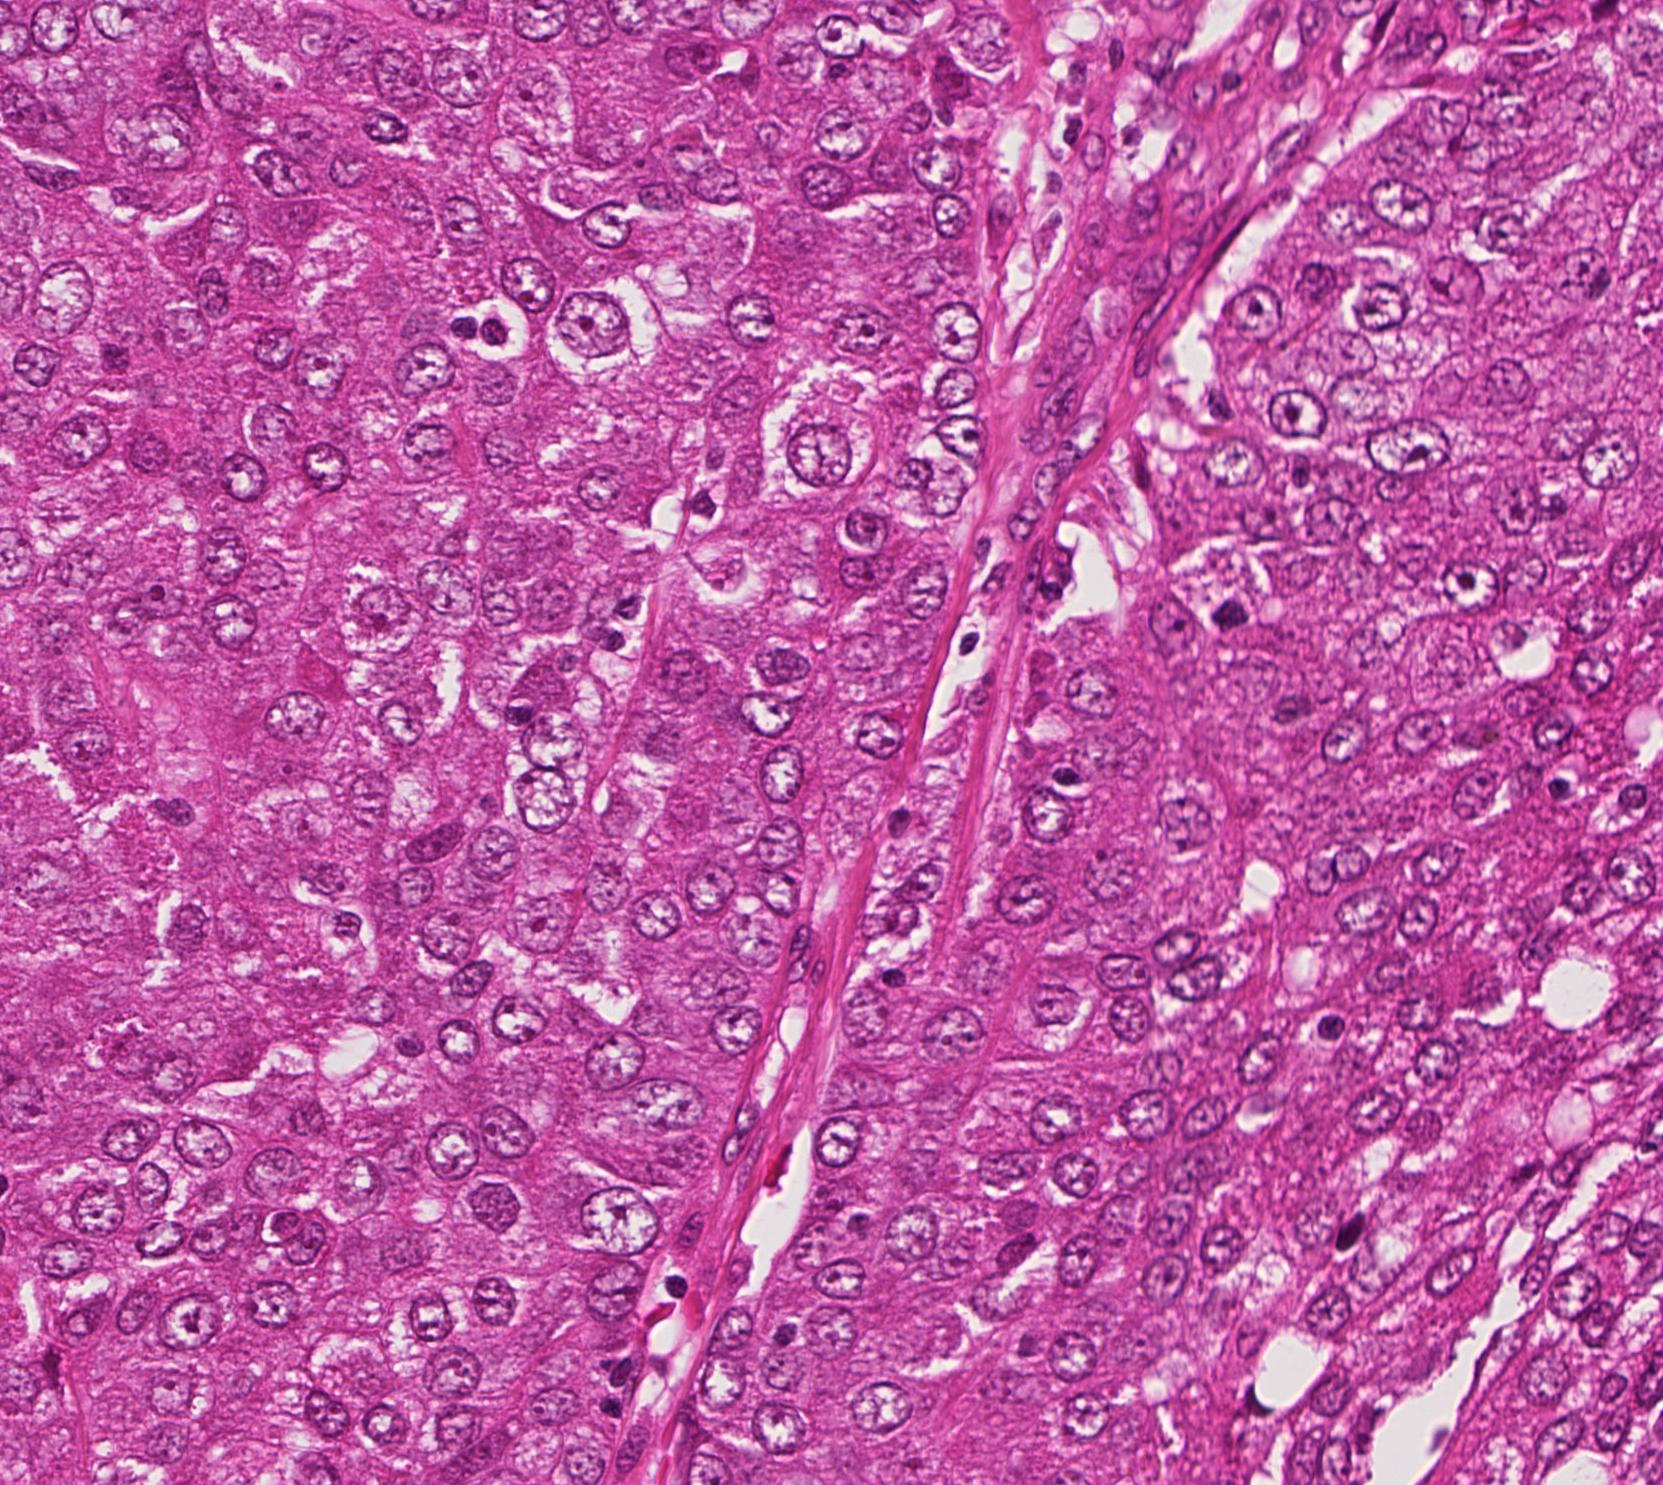mitosis: (1545, 241, 1606, 301)
